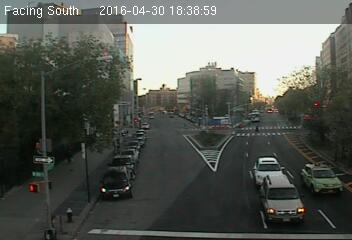neg: (159, 43, 179, 70), (36, 73, 54, 98), (76, 54, 94, 78), (218, 47, 236, 71), (24, 183, 42, 207), (198, 155, 215, 178), (71, 121, 87, 143), (321, 124, 337, 144), (300, 160, 315, 181), (128, 127, 143, 147), (79, 166, 94, 186), (119, 172, 134, 191), (63, 204, 78, 223), (35, 151, 49, 171), (172, 101, 186, 120), (266, 168, 280, 187), (293, 95, 307, 113), (184, 207, 198, 225), (206, 106, 219, 124), (226, 177, 239, 195), (232, 112, 245, 129), (125, 54, 138, 71), (160, 177, 173, 194), (100, 126, 112, 142), (260, 75, 272, 90)
pos: (255, 124, 264, 136)
